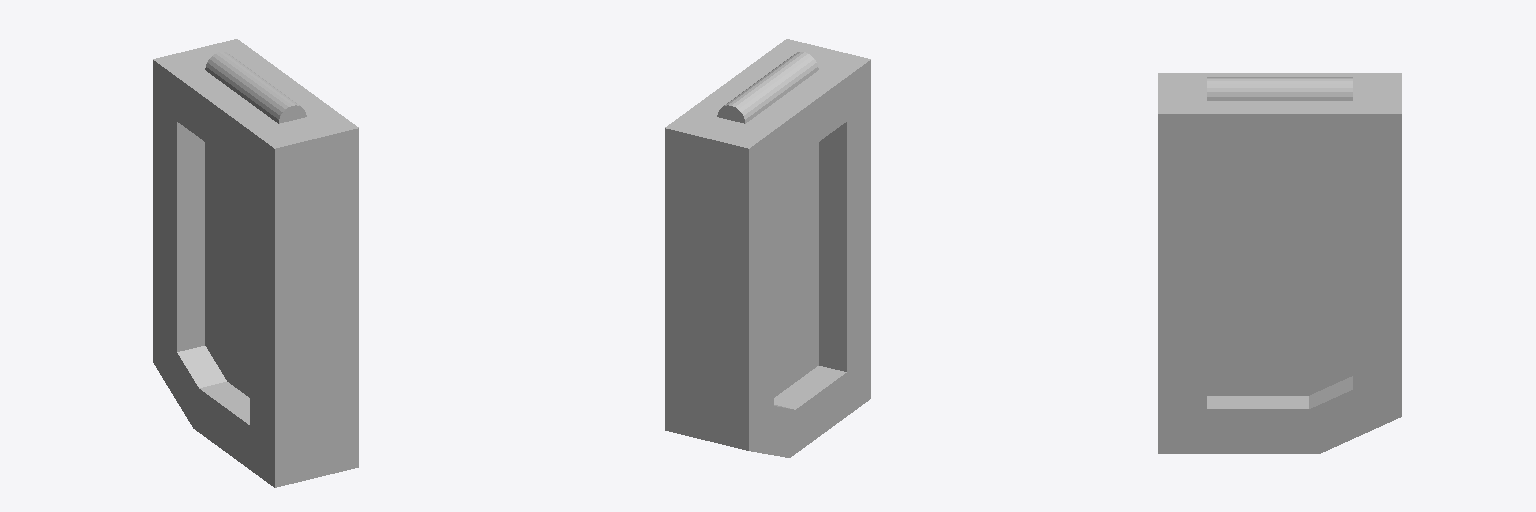
Rendered from clipA.obj.
3 views of the same model, side by side, from view 1: azimuth 30°, elevation 25°; view 2: azimuth 150°, elevation 25°; view 3: azimuth 270°, elevation 25° (orthographic).
Parts seen in each view (by area): view 1: clipA; view 2: clipA; view 3: clipA.
Boxes of the visible parts, box(x1,y1,x2,y2) form: clipA: box(153, 39, 358, 487); clipA: box(665, 39, 870, 457); clipA: box(1158, 73, 1401, 453).
Size of the model in its own units: 0.06 by 0.24 by 0.15.